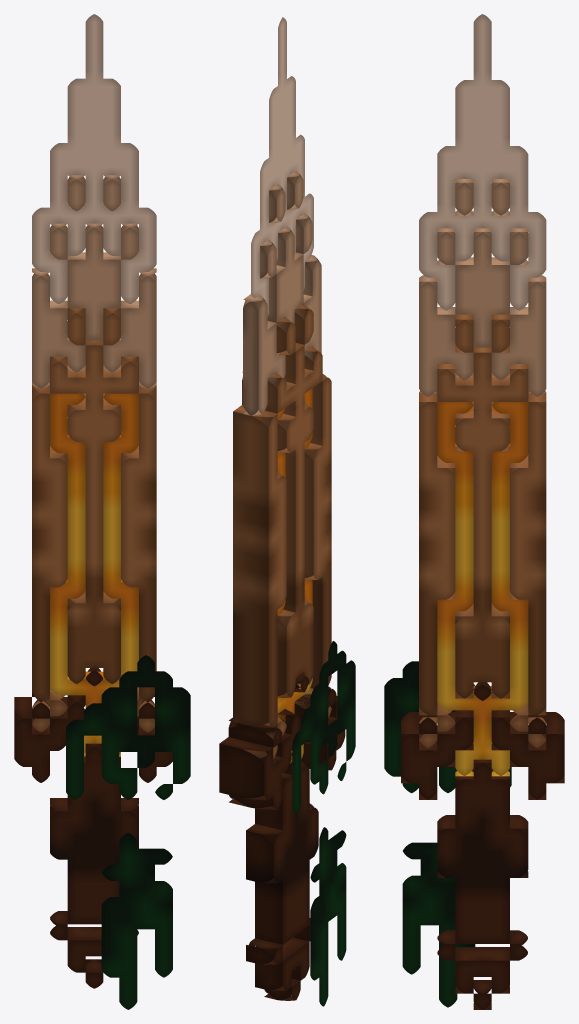
File: woods_sword.obj
3 views of the same model, side by side, from view 1: azimuth 90°, elevation 25°; view 2: azimuth 150°, elevation 25°; view 3: azimuth 270°, elevation 25° (orthographic). The views are drawn at different scales.
Parts seen in each view (by area): view 1: woods_26, woods_31, woods_32, woods_0, woods_74, woods_81, woods_39, woods_40, woods_76, woods_42, woods_41, woods_12 (+60 smaller); view 2: woods_31, woods_26, woods_32, woods_76, woods_65, woods_18, woods_42, woods_79, woods_81, woods_0, woods_45, woods_77 (+41 smaller); view 3: woods_26, woods_32, woods_31, woods_0, woods_74, woods_76, woods_77, woods_40, woods_39, woods_41, woods_42, woods_12 (+60 smaller).
Part boxes in pixels (<box>): woods_26: <box>85,340,103,667</box>; woods_31: <box>32,381,49,700</box>; woods_32: <box>139,382,156,700</box>; woods_0: <box>85,14,103,223</box>; woods_74: <box>85,743,103,924</box>; woods_81: <box>119,832,137,1009</box>; woods_39: <box>67,434,85,598</box>; woods_40: <box>103,435,120,598</box>; woods_76: <box>67,755,85,924</box>; woods_42: <box>121,446,138,587</box>; woods_41: <box>50,446,67,587</box>; woods_12: <box>85,223,103,340</box>; woods_31: <box>233,405,277,726</box>; woods_26: <box>277,343,304,677</box>; woods_32: <box>304,374,331,688</box>; woods_76: <box>255,773,291,944</box>; woods_65: <box>219,737,273,800</box>; woods_18: <box>243,294,267,415</box>; woods_42: <box>304,443,322,580</box>; woods_79: <box>246,824,282,883</box>; woods_81: <box>319,827,328,1006</box>; woods_0: <box>278,17,286,232</box>; woods_45: <box>277,610,295,697</box>; woods_77: <box>300,761,309,931</box>; woods_26: <box>473,347,491,682</box>; woods_32: <box>419,389,437,715</box>; woods_31: <box>528,389,546,715</box>; woods_0: <box>473,14,491,228</box>; woods_74: <box>473,759,491,943</box>; woods_76: <box>491,768,509,943</box>; woods_77: <box>455,768,473,943</box>; woods_40: <box>455,443,473,611</box>; woods_39: <box>491,444,509,611</box>; woods_41: <box>510,455,528,599</box>; woods_42: <box>437,455,455,599</box>; woods_12: <box>473,228,491,347</box>.
Size of the model in its own units: 0.0895 by 1.82 by 0.2954.
